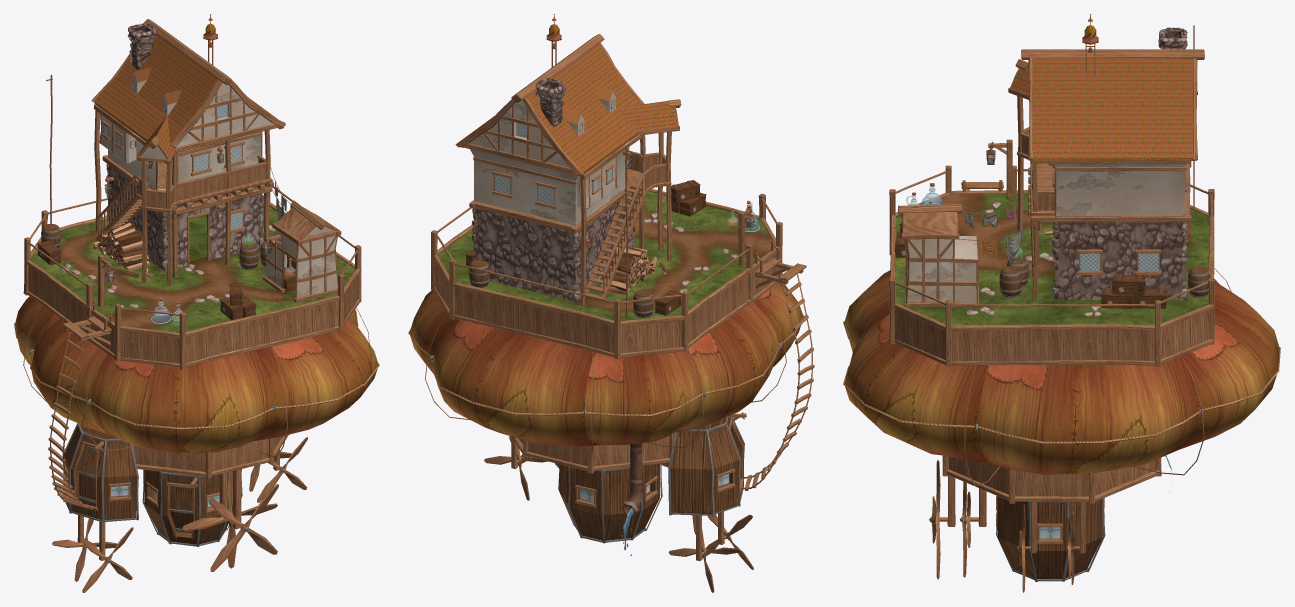
Rendered from 01-island-v2.glb.
The picture shows the model from 3 angles, left to right: view 1: azimuth 30°, elevation 25°; view 2: azimuth 150°, elevation 25°; view 3: azimuth 270°, elevation 25°; orthographic projection. The views are drawn at different scales.
Visible parts, largest first — view 1: Object_2, Object_18, Object_21, Object_13, Object_7, Object_6, Object_22, Object_29, Object_15, Object_12, Object_25, Object_11 (+6 smaller); view 2: Object_2, Object_21, Object_18, Object_6, Object_13, Object_29, Object_22, Object_15, Object_7, Object_12, Object_11, Object_10 (+2 smaller); view 3: Object_2, Object_21, Object_22, Object_13, Object_18, Object_7, Object_29, Object_15, Object_6, Object_25, Object_11, Object_24 (+3 smaller).
Part boxes in pixels (<box>): Object_2: <box>15,296,378,452</box>; Object_18: <box>91,19,285,487</box>; Object_21: <box>23,74,361,370</box>; Object_13: <box>30,203,355,332</box>; Object_7: <box>48,339,307,592</box>; Object_6: <box>62,423,242,546</box>; Object_22: <box>94,34,277,159</box>; Object_29: <box>106,157,264,270</box>; Object_15: <box>93,72,273,190</box>; Object_12: <box>14,146,379,507</box>; Object_25: <box>262,200,341,302</box>; Object_11: <box>29,224,295,411</box>; Object_2: <box>410,283,803,446</box>; Object_21: <box>431,146,806,359</box>; Object_18: <box>455,21,752,421</box>; Object_6: <box>558,416,744,543</box>; Object_13: <box>438,191,774,320</box>; Object_29: <box>471,191,635,301</box>; Object_22: <box>458,40,678,173</box>; Object_15: <box>469,91,638,225</box>; Object_7: <box>484,282,814,592</box>; Object_12: <box>408,153,812,489</box>; Object_11: <box>429,180,782,416</box>; Object_10: <box>621,443,642,555</box>; Object_2: <box>844,270,1279,474</box>; Object_21: <box>889,25,1214,366</box>; Object_22: <box>1010,57,1193,161</box>; Object_13: <box>895,193,1209,325</box>; Object_18: <box>988,22,1204,298</box>; Object_7: <box>931,455,1161,592</box>; Object_29: <box>1052,216,1188,299</box>; Object_15: <box>1054,163,1185,215</box>; Object_6: <box>996,496,1105,581</box>; Object_25: <box>898,204,979,308</box>; Object_11: <box>894,222,1210,431</box>; Object_24: <box>907,236,977,302</box>.
Bounding box in the file's own units: 19.87 × 30.91 × 20.24.
Materials: 27 (26 with a texture image).
